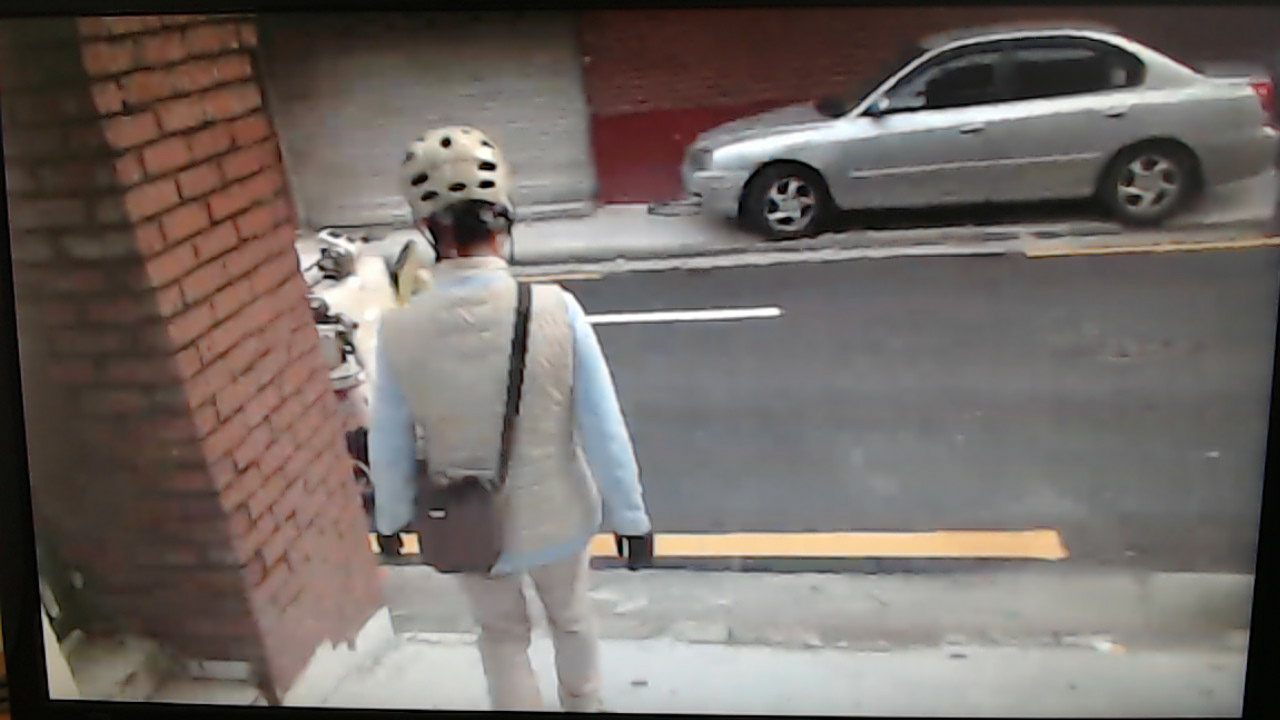Yakurut: (311, 117, 677, 718)
